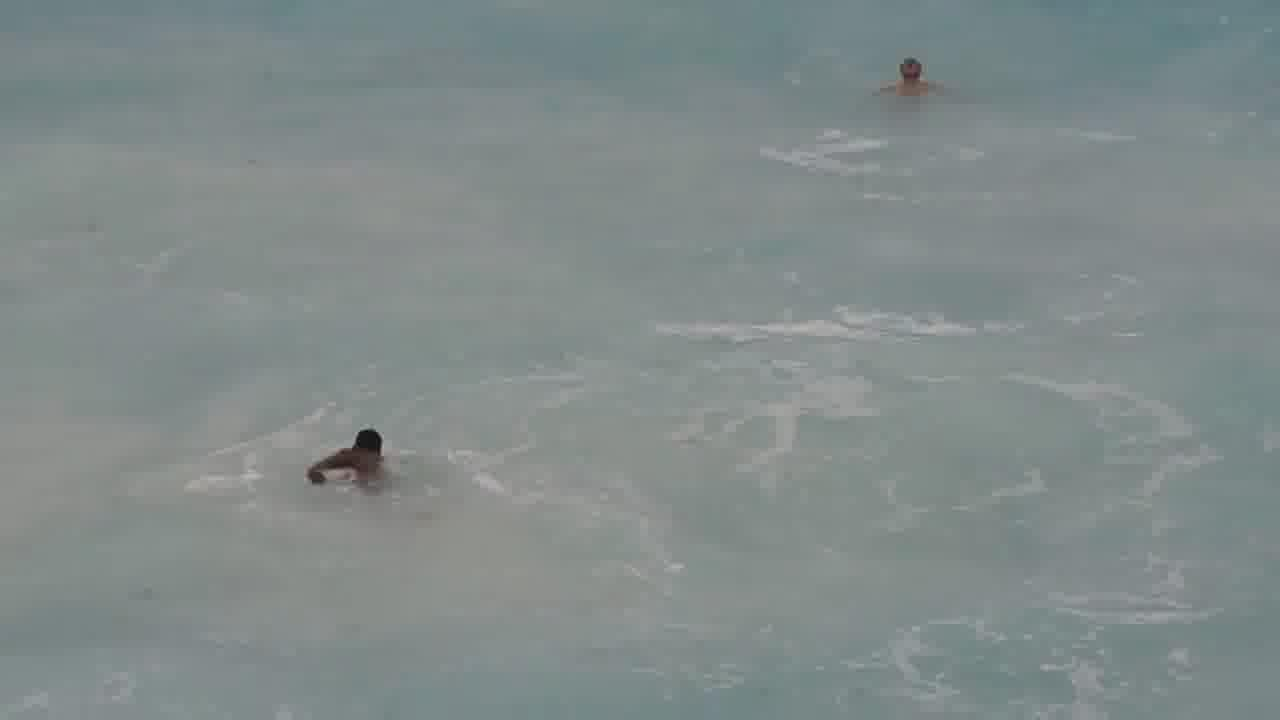human: (877, 50, 952, 105), (340, 412, 395, 484)
